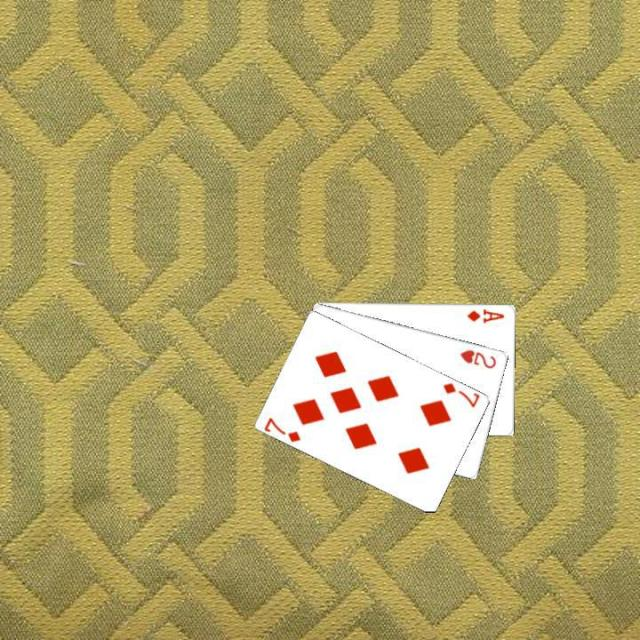2H: (456, 345, 499, 371)
7D: (439, 379, 481, 409), (261, 414, 303, 444)
AD: (463, 305, 506, 324)
